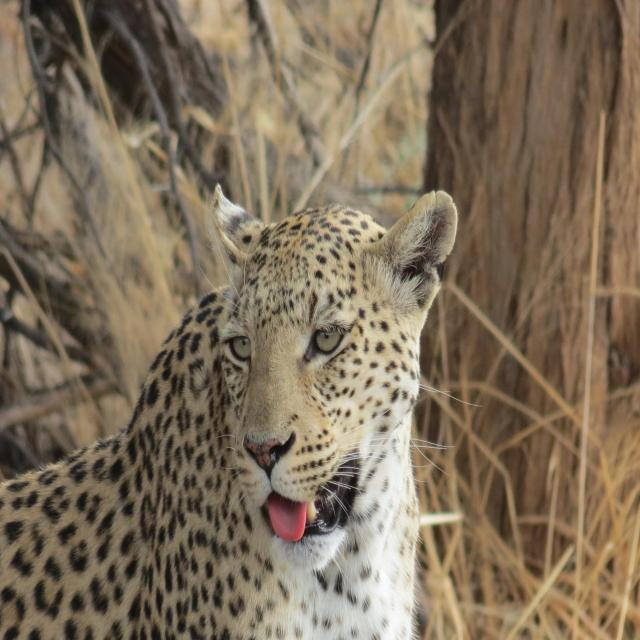Leopard: (0, 185, 513, 640)
